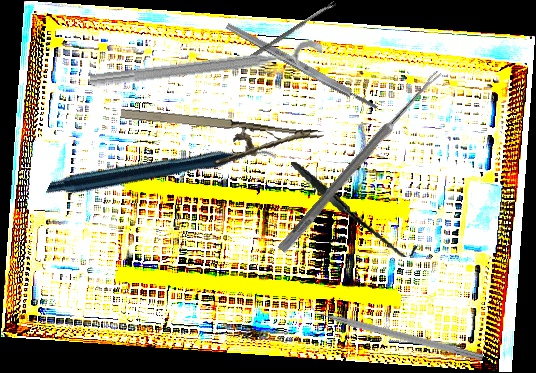Chopper: (304, 296, 487, 362)
Fixation Ring: (88, 38, 326, 107)
Handpiece: (45, 68, 278, 279)
Hook Surgical: (291, 143, 418, 274)
Needle Holder: (115, 103, 325, 179)
Scalpel Handle: (224, 20, 380, 113)
Surgical Spoon: (277, 67, 443, 255), (233, 0, 337, 71)
